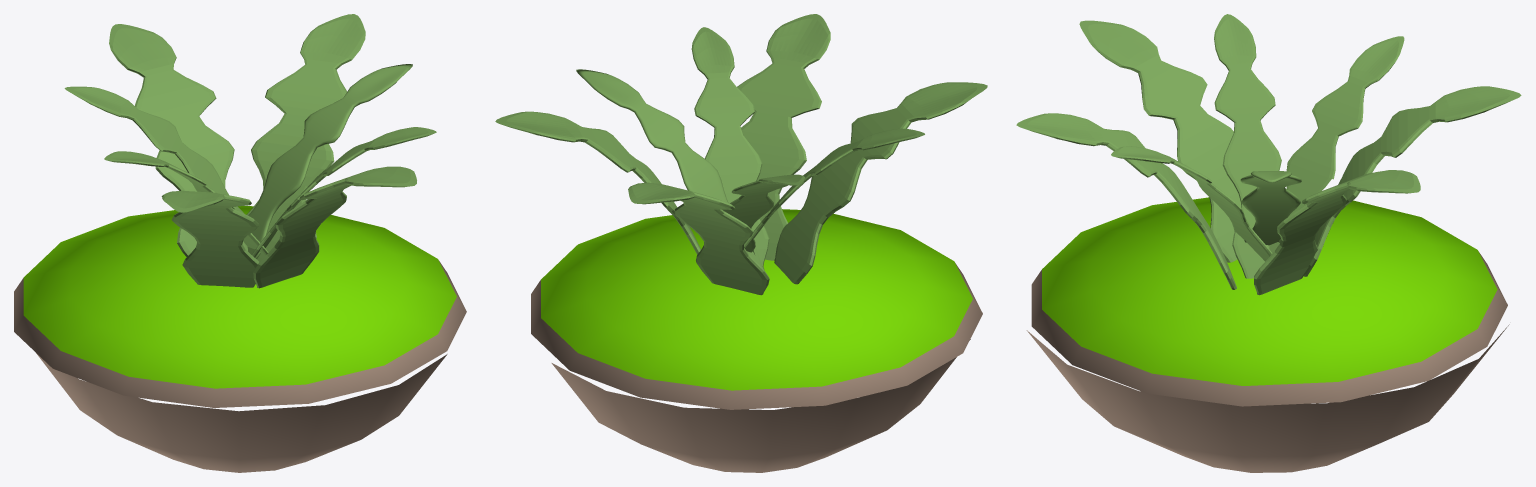
The model's file is Algue-3.gltf.
The picture shows the model from 3 angles, left to right: view 1: azimuth 30°, elevation 25°; view 2: azimuth 150°, elevation 25°; view 3: azimuth 270°, elevation 25°; orthographic projection. The views are drawn at different scales.
Visible parts, largest first — view 1: Default-04___Default, Default-01___Default, Sphere, Default-03___Default; view 2: Default-04___Default, Default-01___Default, Sphere, Default-03___Default; view 3: Default-04___Default, Default-01___Default, Sphere, Default-03___Default.
Boxes of the visible parts, x1,y1,x2,y2 form: Default-04___Default: (23,206,456,388); Default-01___Default: (64,14,436,288); Sphere: (36,353,447,472); Default-03___Default: (14,261,466,407); Default-04___Default: (541,209,972,390); Default-01___Default: (495,14,987,295); Sphere: (551,339,970,472); Default-03___Default: (531,263,982,409); Default-04___Default: (1042,197,1497,385); Default-01___Default: (1016,14,1521,295); Sphere: (1026,324,1509,472); Default-03___Default: (1031,251,1507,406).
Bounding box in the file's own units: 110 × 90.35 × 116.
